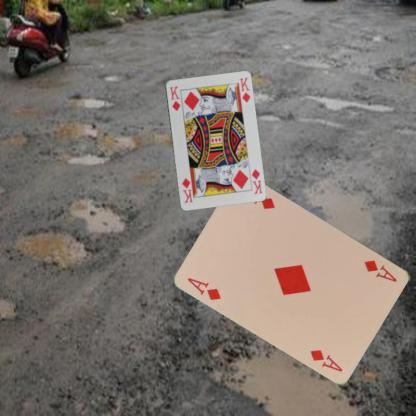Ad: (185, 274, 223, 302), (362, 257, 398, 283)
Kd: (249, 166, 264, 195), (167, 83, 181, 112)
